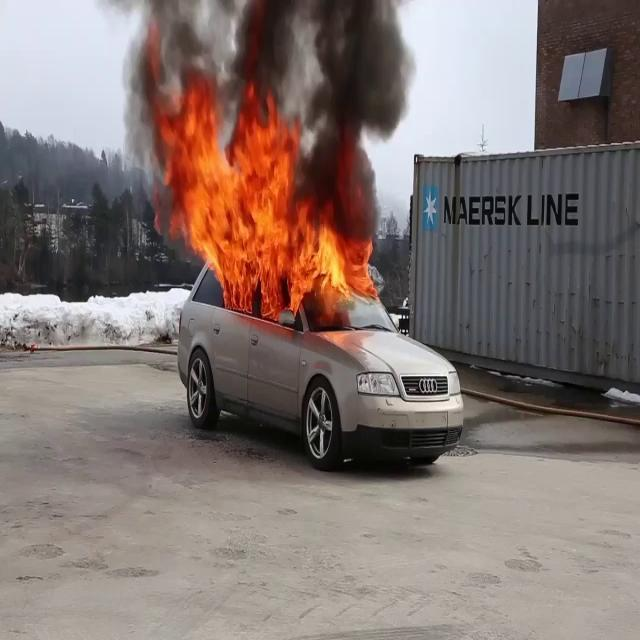Fire: (154, 84, 378, 322)
Smoke: (111, 0, 422, 186)
